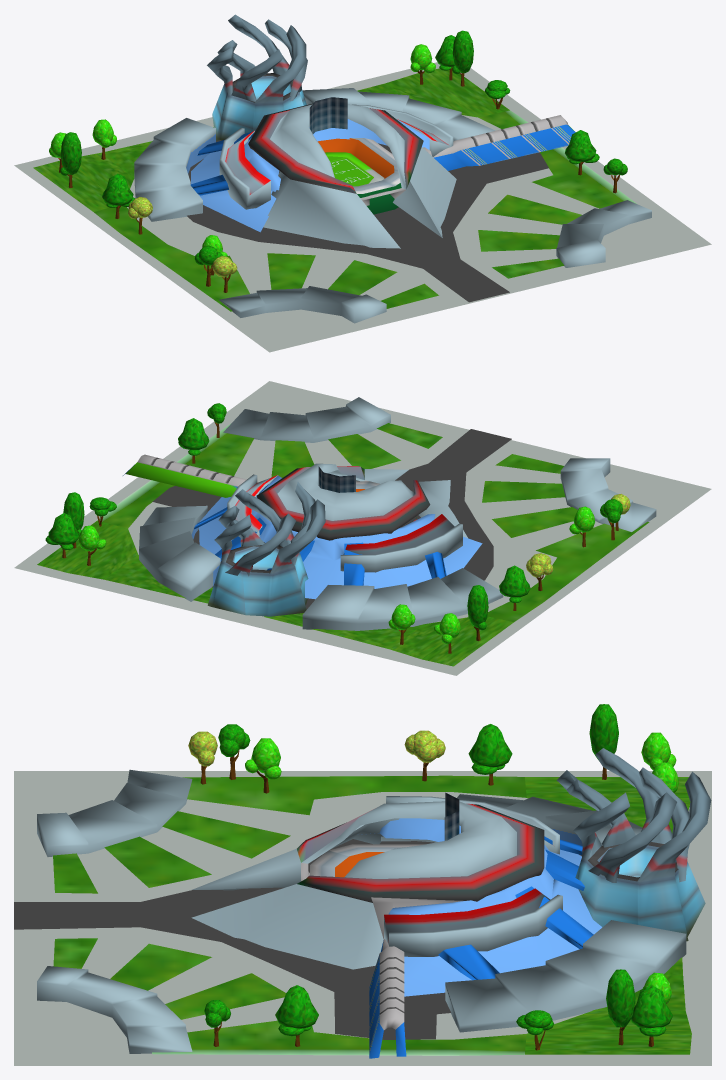
Rendered from sportshub_LV2.fbx.
The picture shows the model from 3 angles, top to bottom: view 1: azimuth 30°, elevation 25°; view 2: azimuth 150°, elevation 25°; view 3: azimuth 270°, elevation 25°; orthographic projection. The views are drawn at different scales.
Visible parts, largest first — view 1: stadium 2; view 2: stadium 2; view 3: stadium 2.
Boxes of the visible parts, <box> form: stadium 2: <box>14,14,711,352</box>; stadium 2: <box>14,381,711,675</box>; stadium 2: <box>14,704,711,1065</box>.
Size of the model in its own units: 202 by 45.83 by 200.
